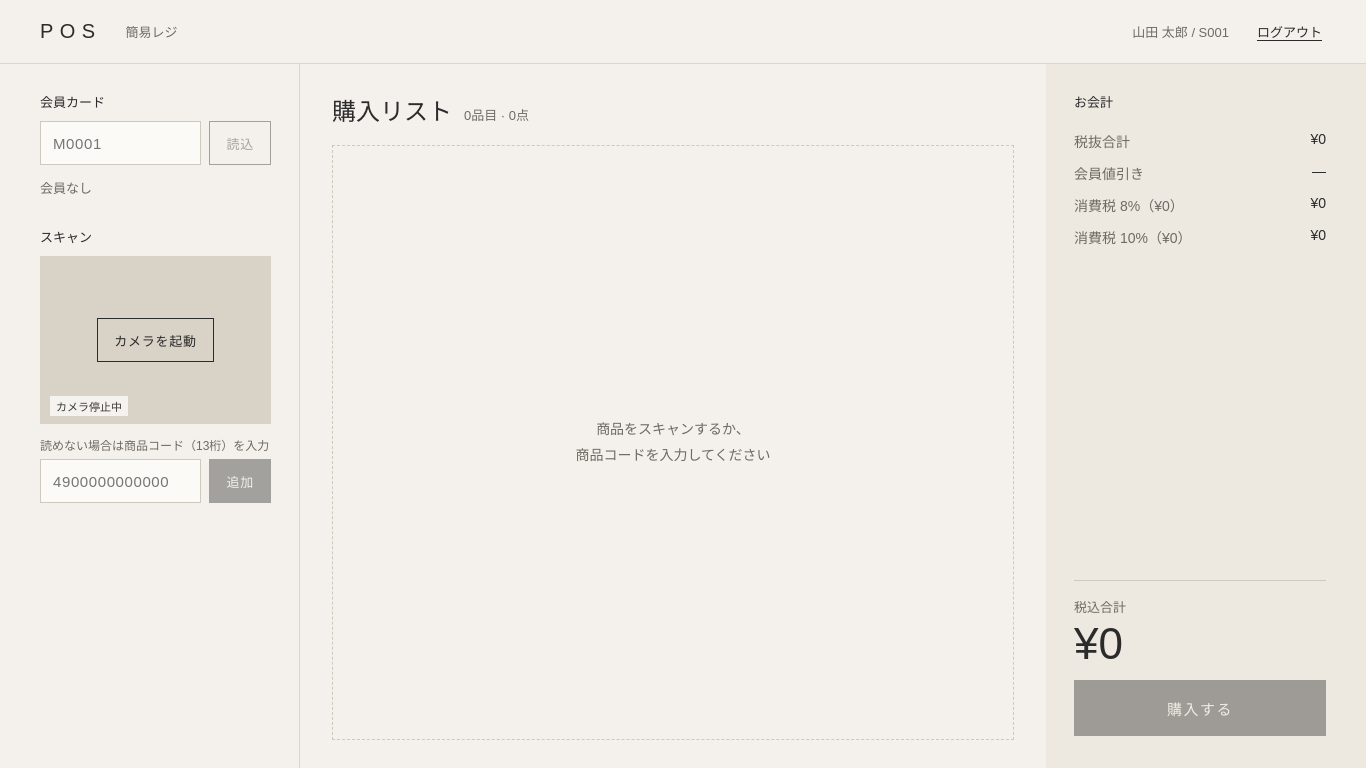
Test: PosScreen › 金額不一致時はサーバ値で同期
Type "4901234567894" into the field labelled "読めない場合は商品コード（13桁）を入力" at x=121, y=481, box left=40, top=459, right=201, bottom=503
Then press Enter
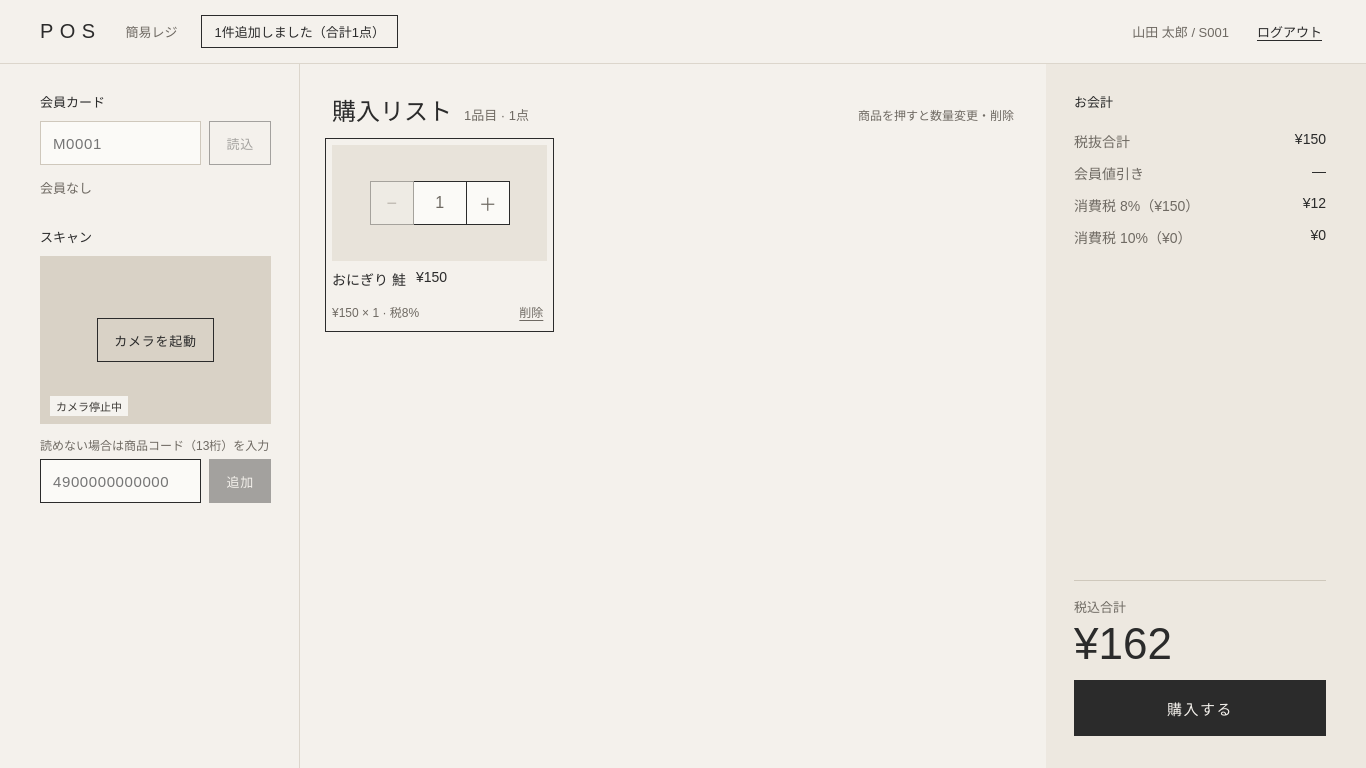
expect the text with test id "total-in-tax" reads "¥162": met, box left=1074, top=619, right=1172, bottom=668
Click the button "購入する" at x=1200, y=708, box left=1074, top=680, right=1326, bottom=736
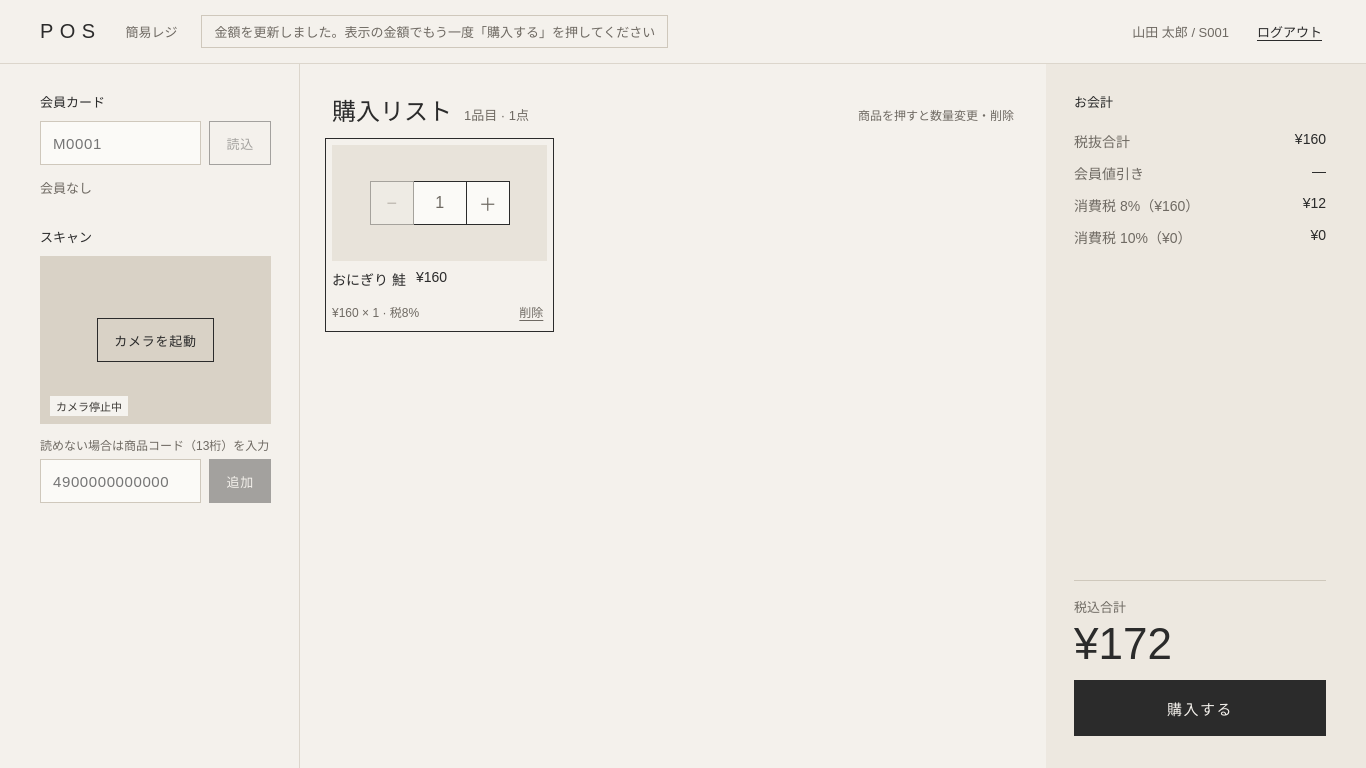
expect the text with test id "total-in-tax" reads "¥172": met, box left=1074, top=619, right=1172, bottom=668
expect the text "金額を更新しました。表示の金額でもう一度「購入する」を押してください" is shown: met, box left=202, top=15, right=668, bottom=48
